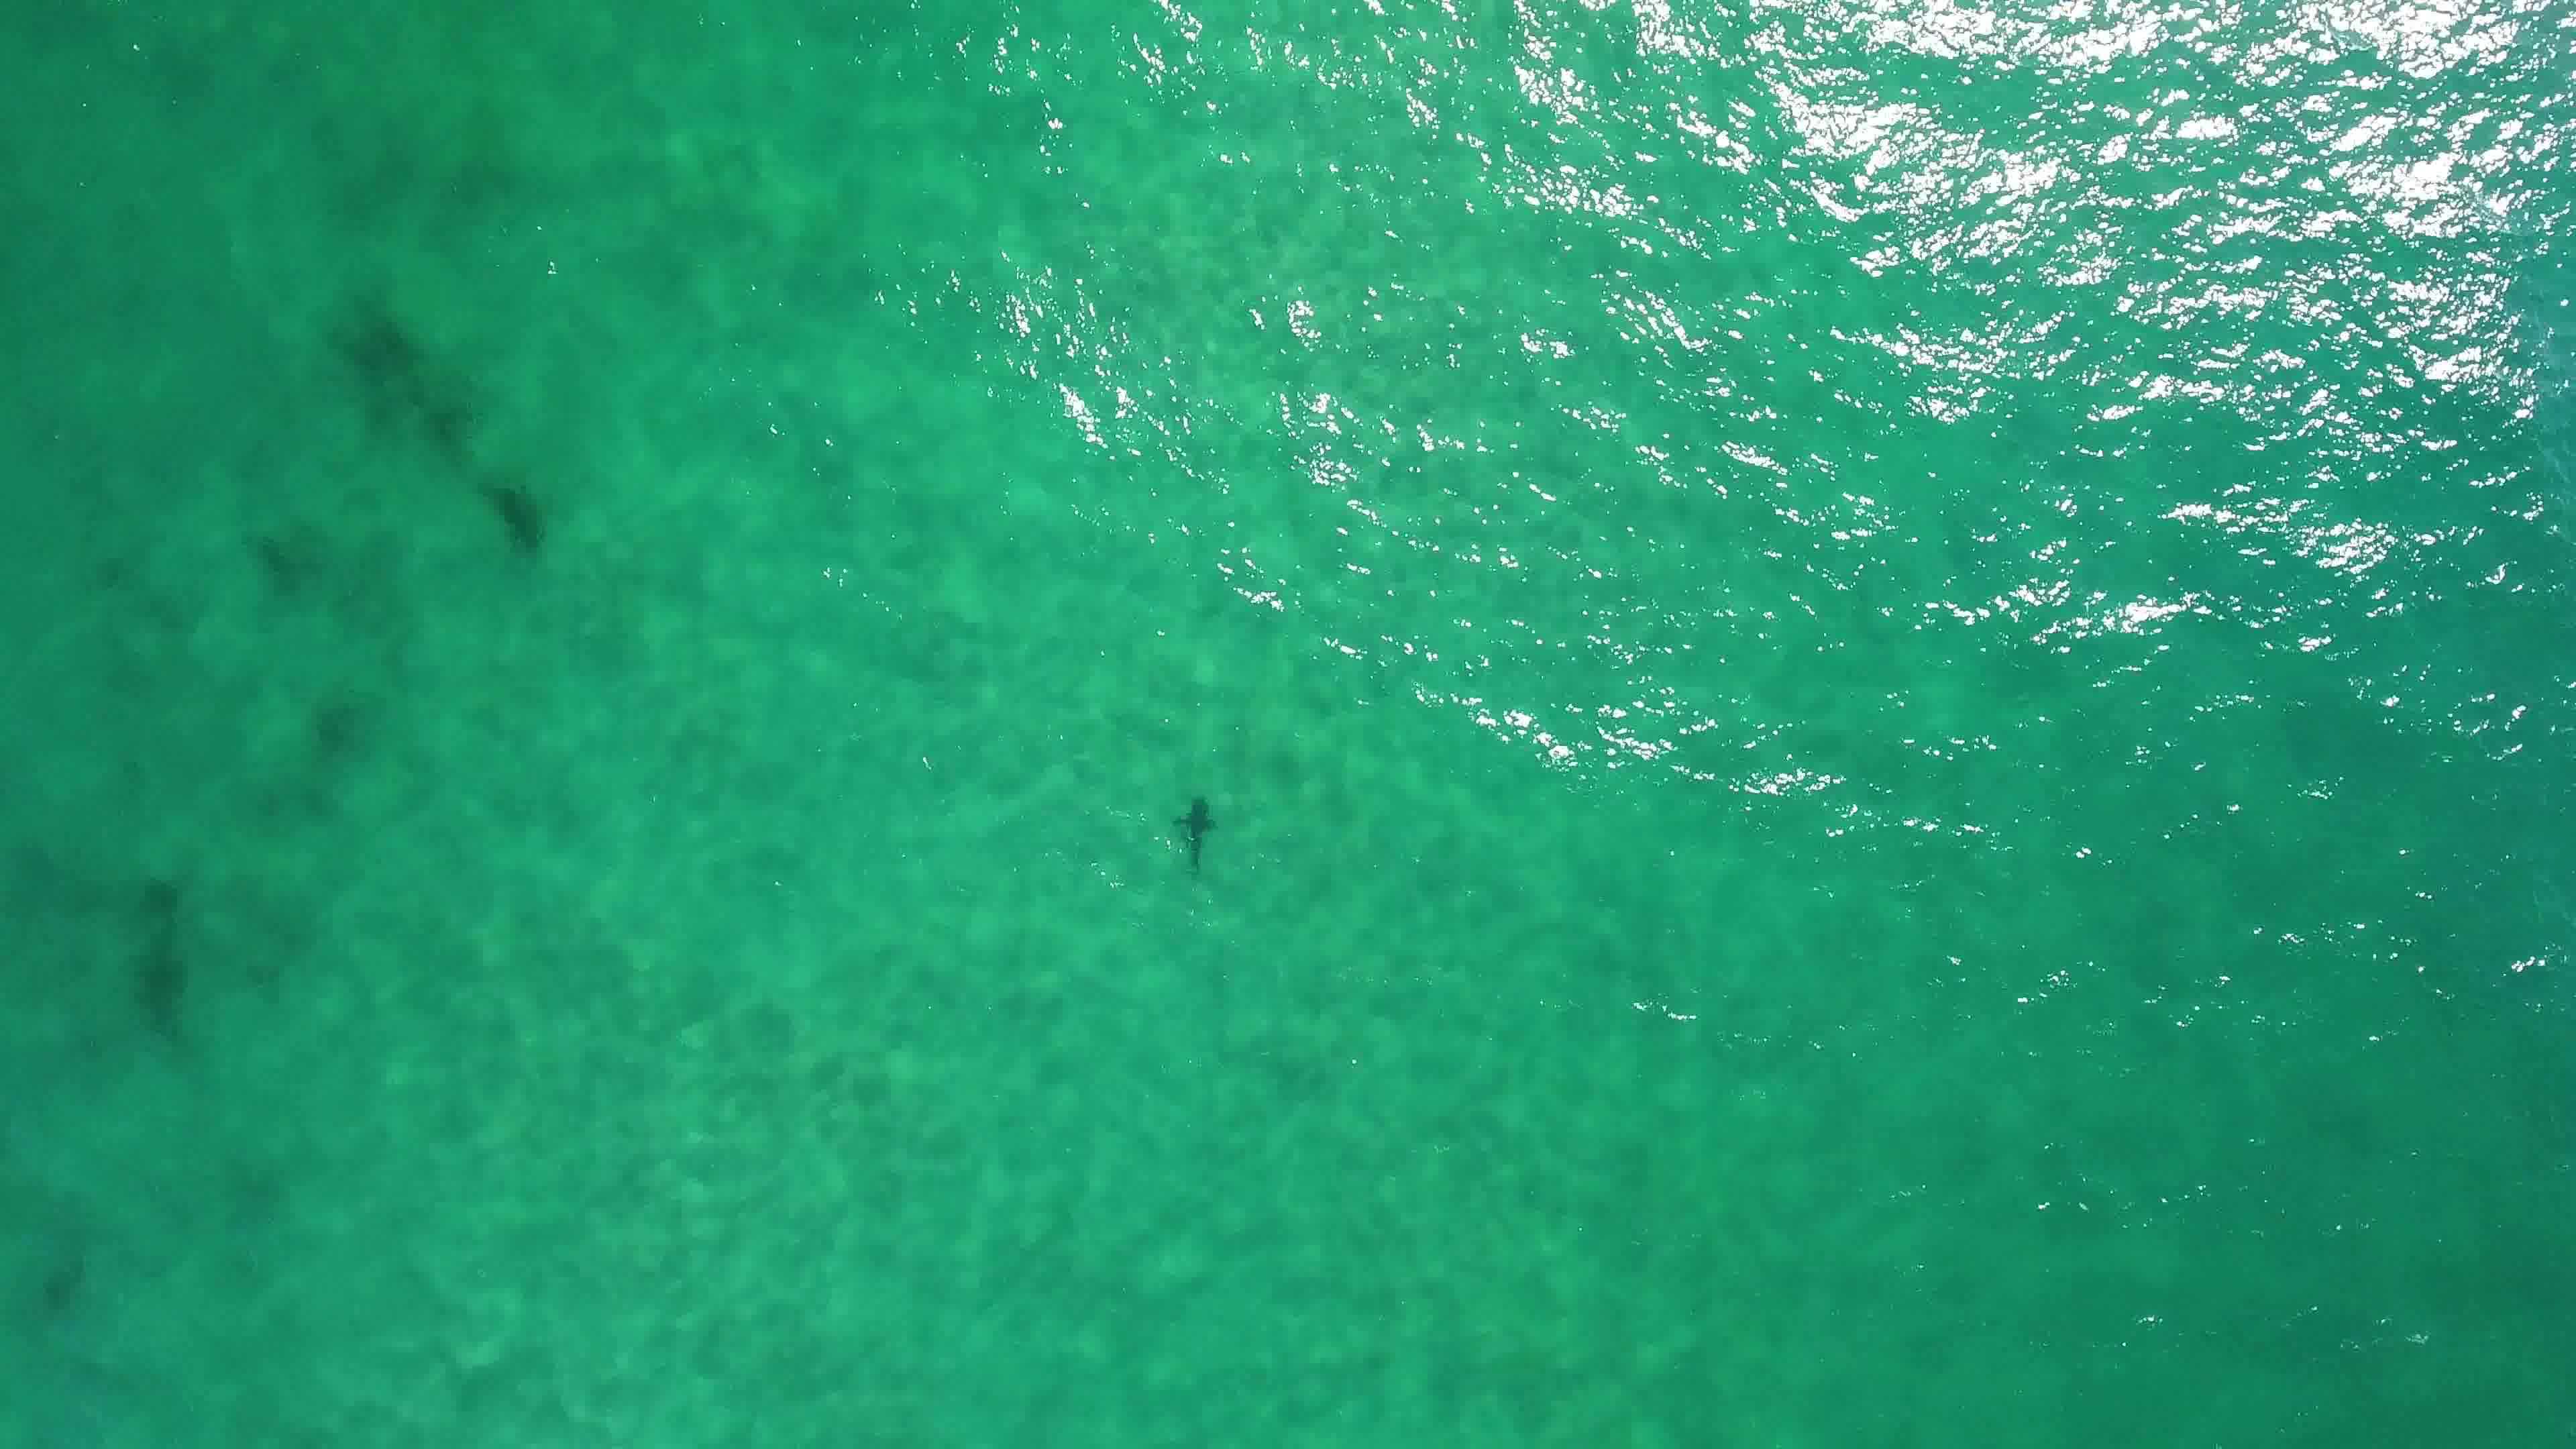shark: (1168, 791, 1221, 878)
